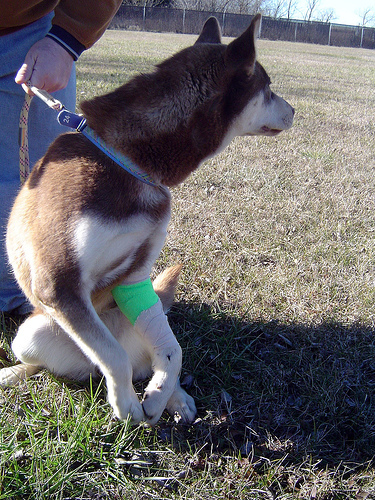dog: (5, 12, 296, 425)
